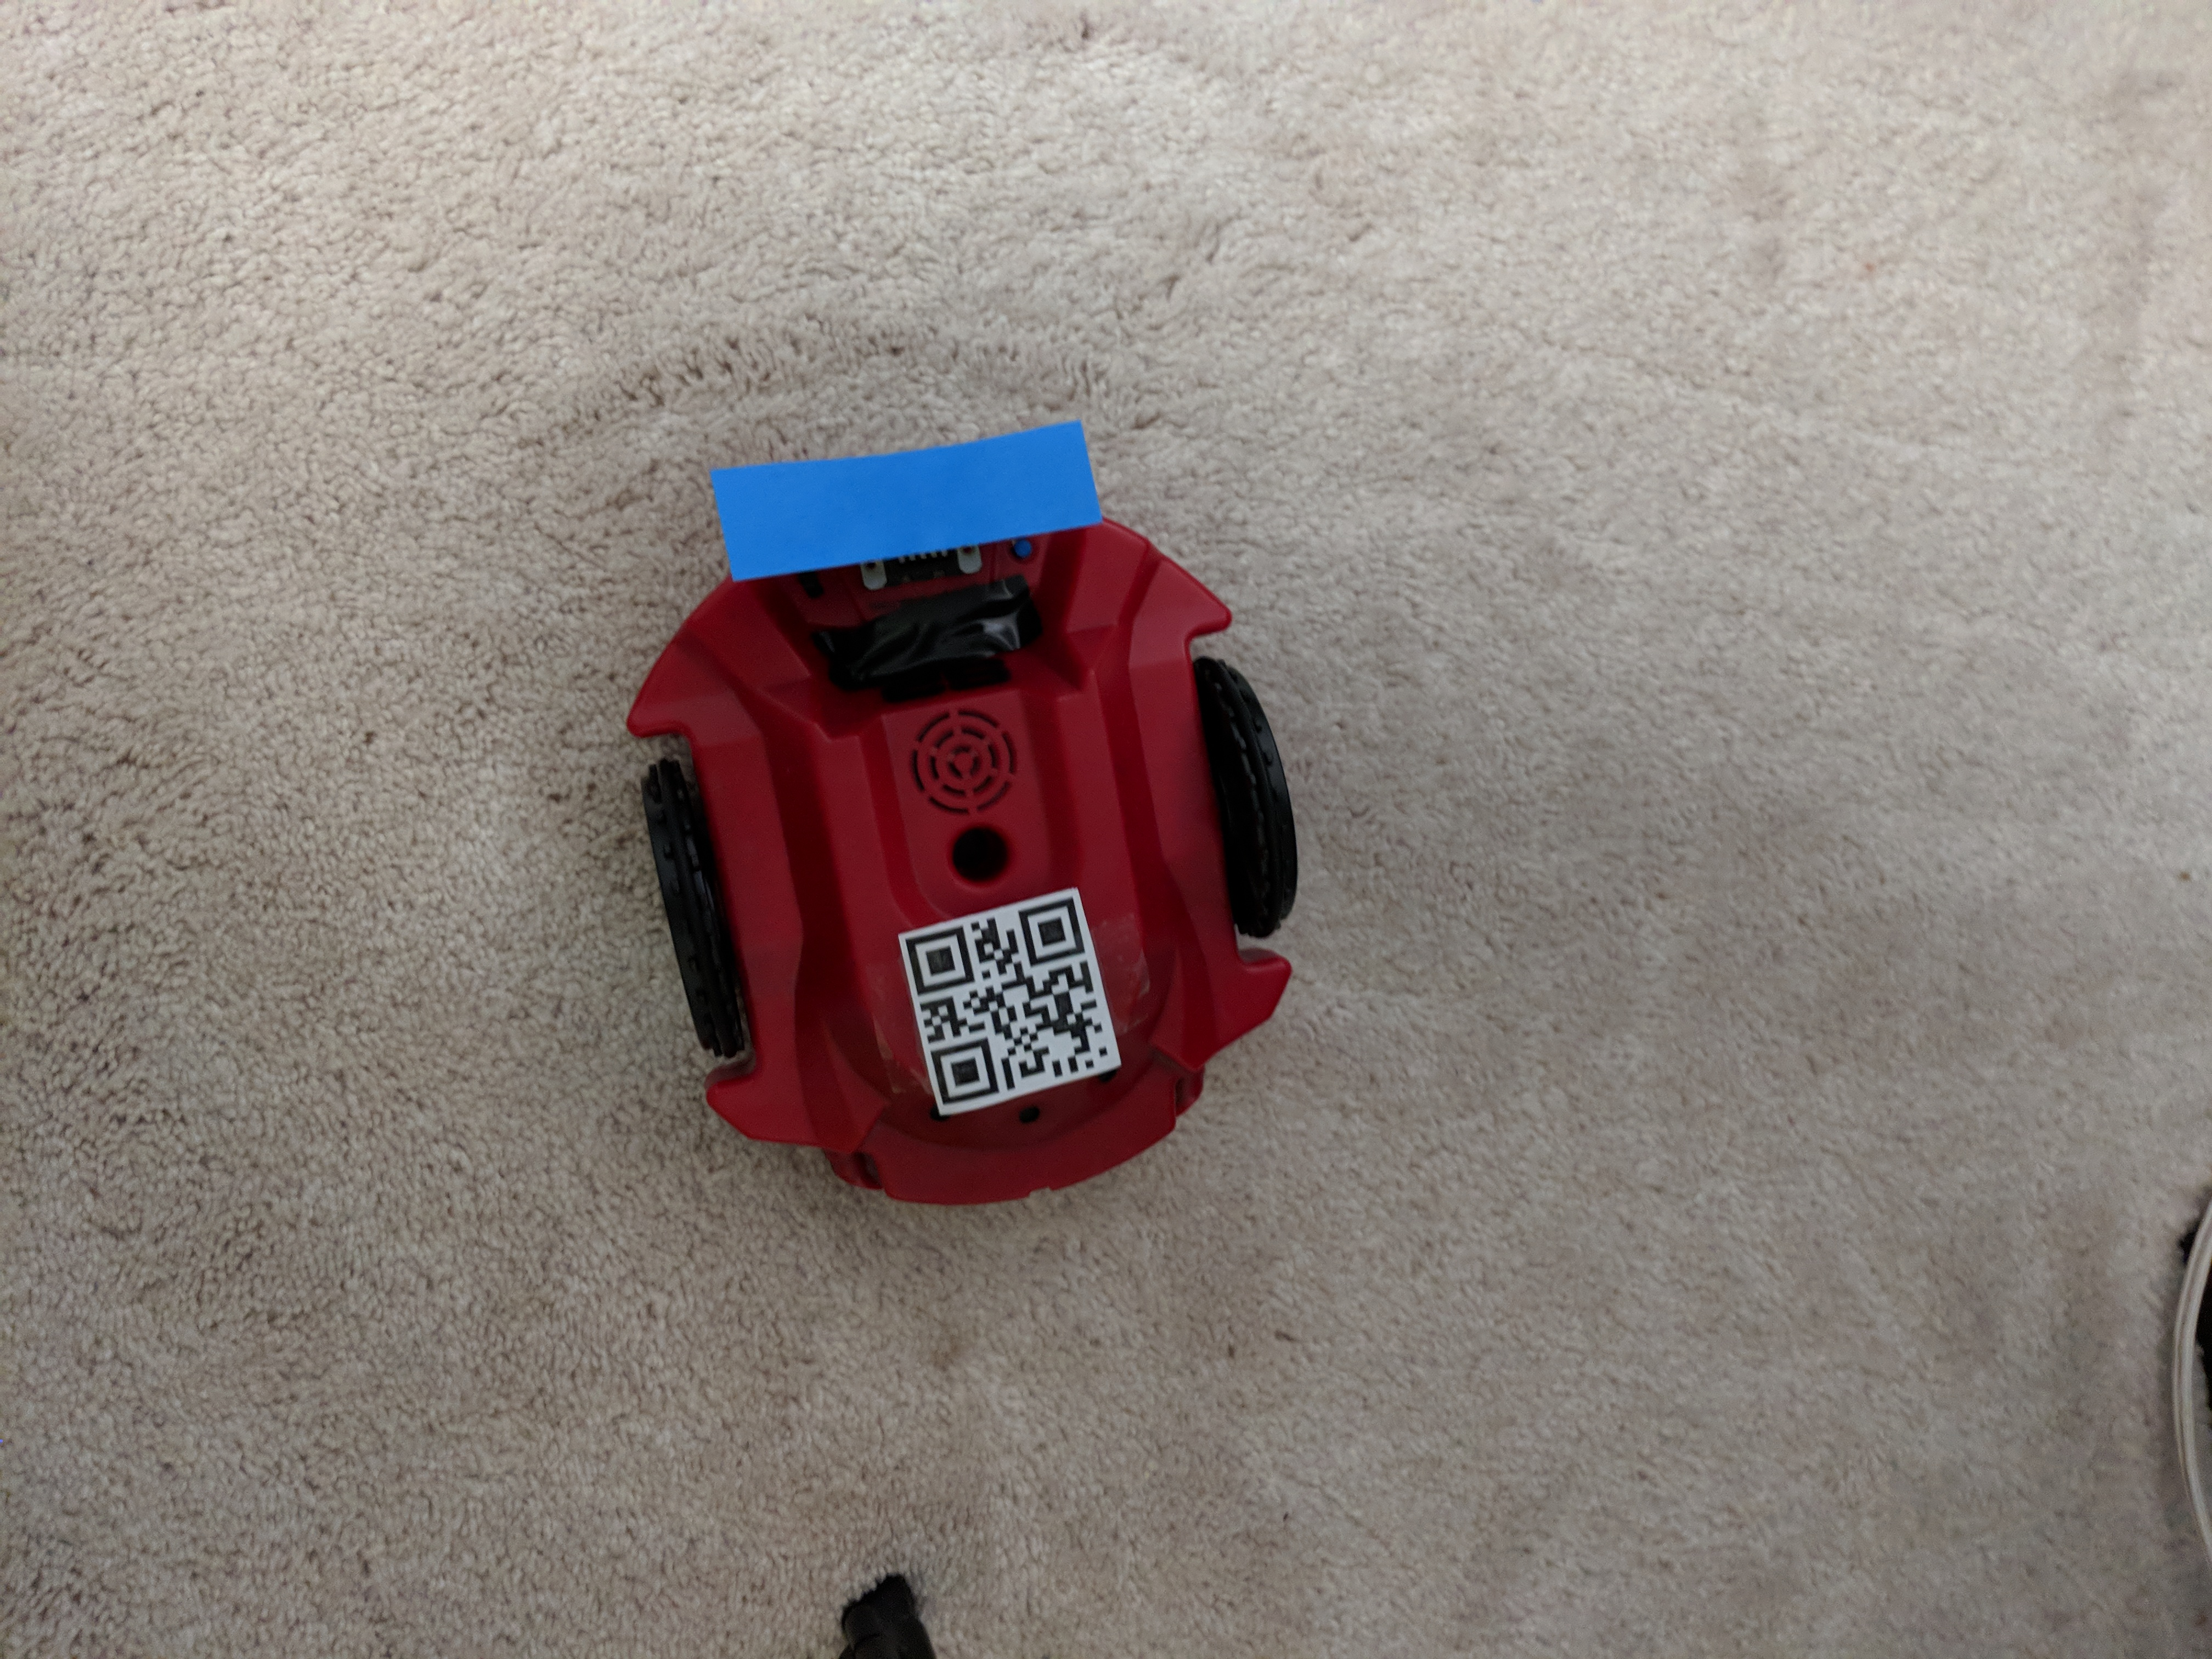board: (711, 411, 1113, 624)
chassis: (625, 418, 1299, 1216)
